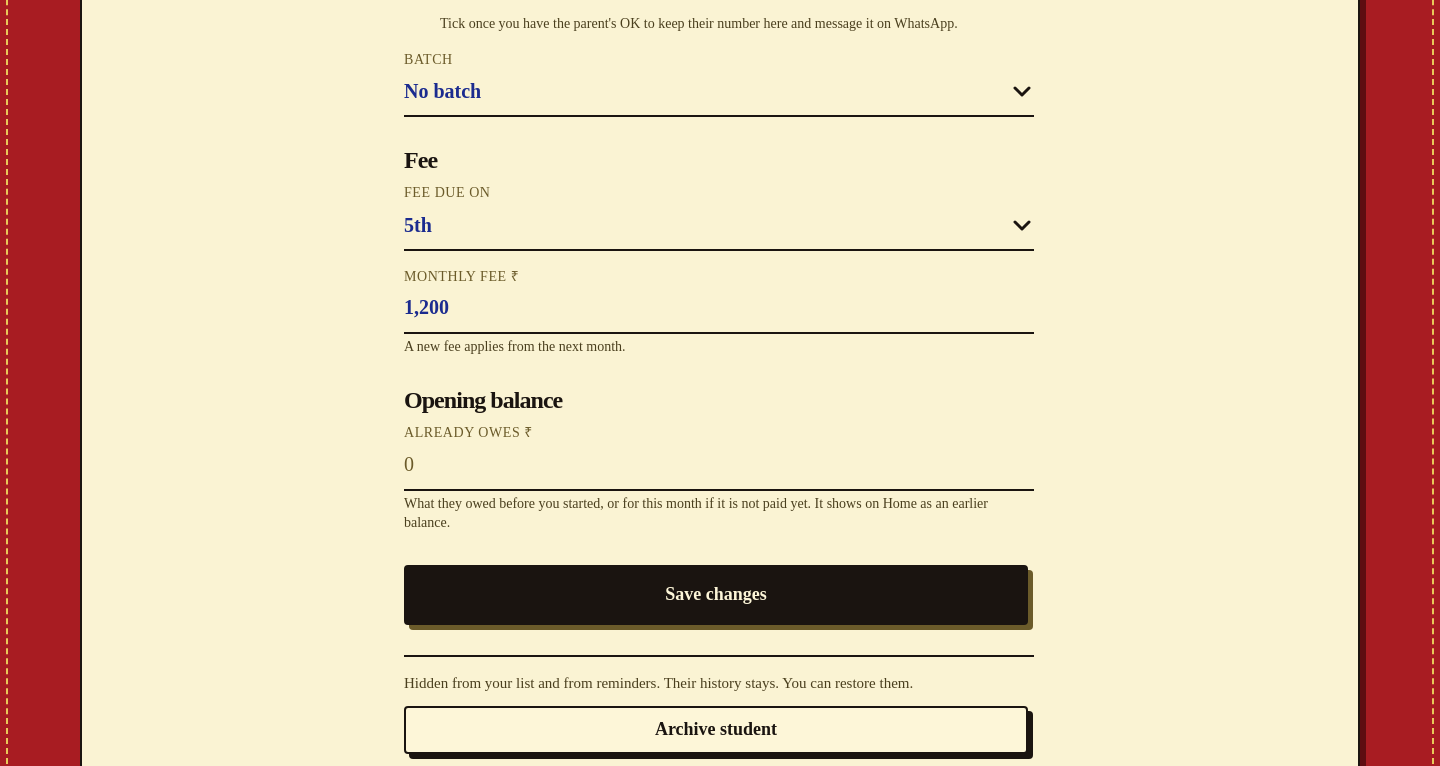
archive and restore › says the phone is offline
This screenshot has width=1440, height=766.
(page scrolled)
What coordinates should you click on to do the following:
click the button "Archive student"
I would click on:
 (716, 730)
Its box is [404, 706, 1028, 754].
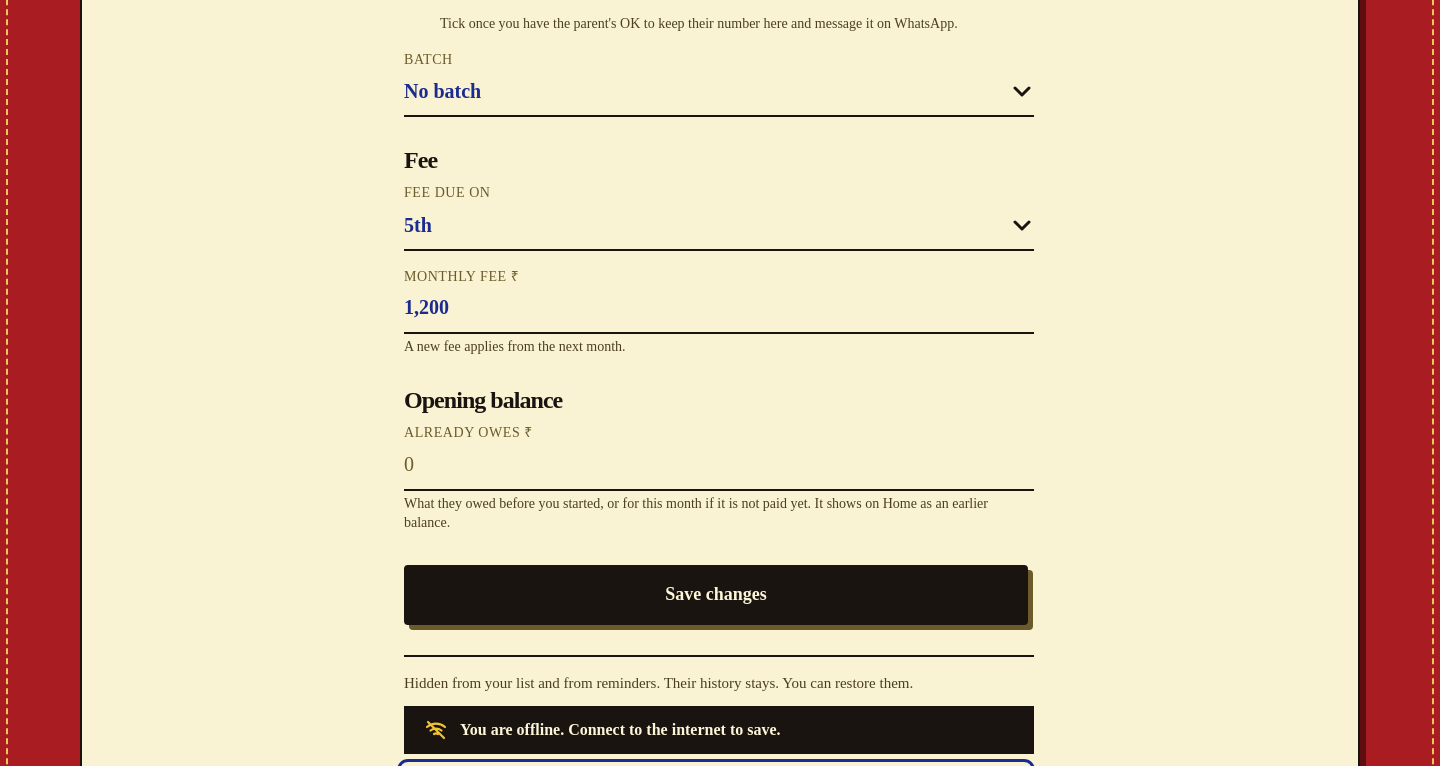
Result: the text "You are offline. Connect to the internet to save." is shown at [460, 719, 780, 741]
